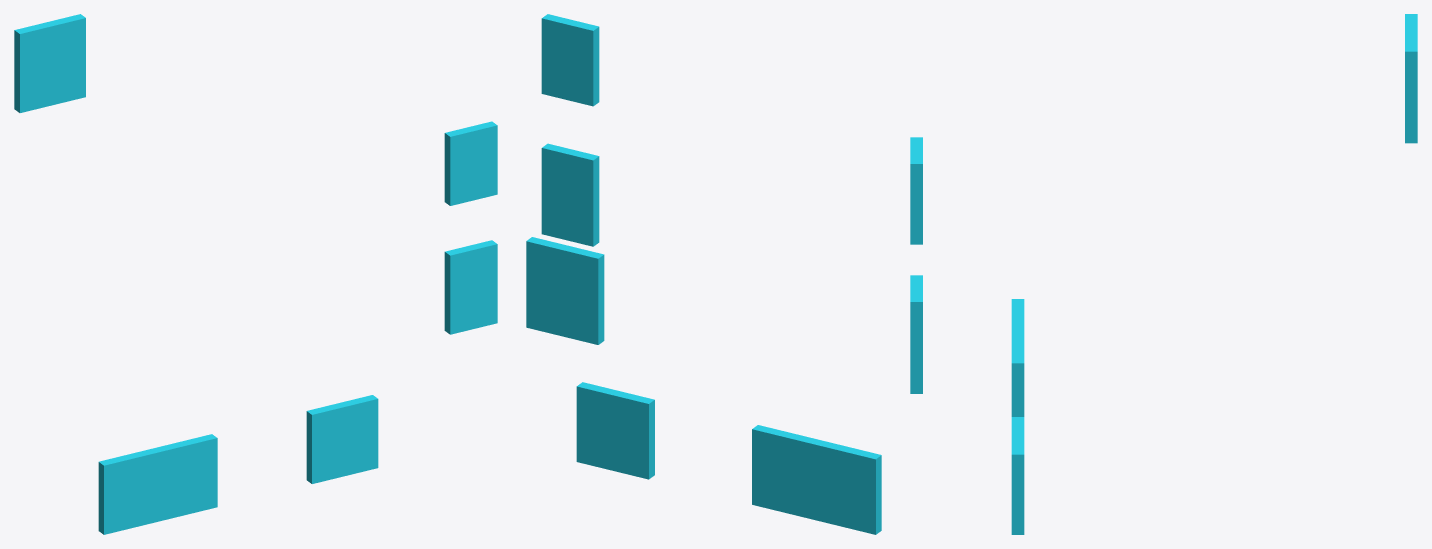
The model's file is do ciacole fines.obj.
3 renders of one model, left to right at view 1: azimuth 30°, elevation 25°; view 2: azimuth 150°, elevation 25°; view 3: azimuth 270°, elevation 25°, orthographic. The views are drawn at different scales.
Size of the model in its own units: 14.8 by 14.4 by 16.
1 material, 1 textured.
